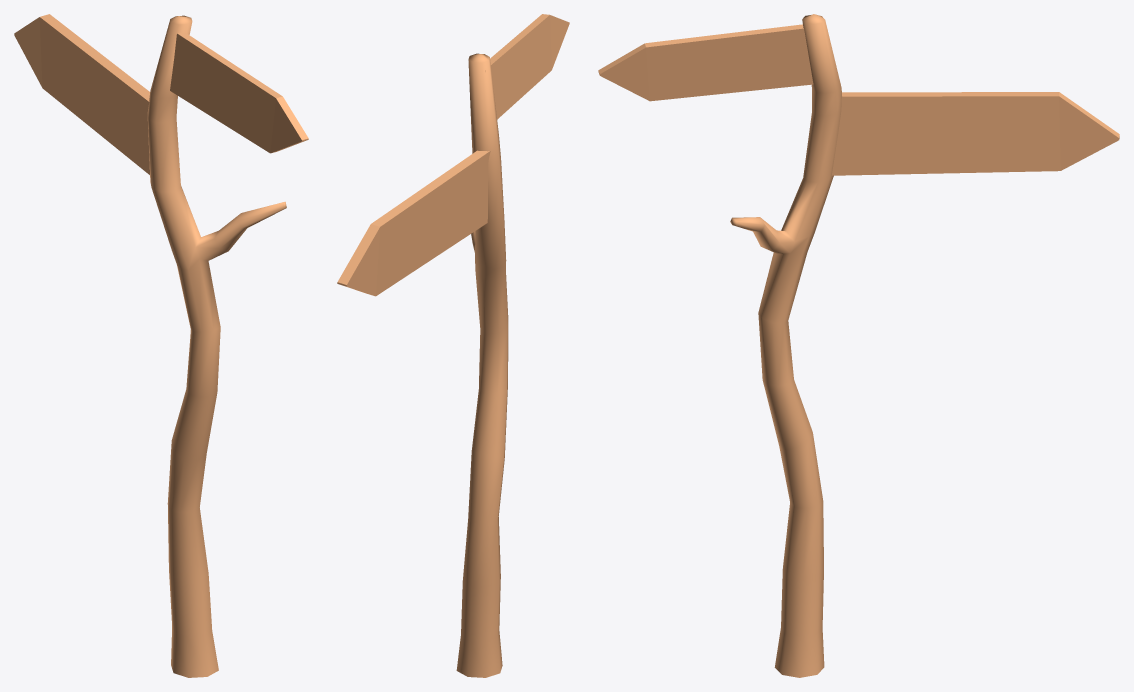
The model's file is NewSignboard.fbx.
3 renders of one model, left to right at view 1: azimuth 30°, elevation 25°; view 2: azimuth 150°, elevation 25°; view 3: azimuth 270°, elevation 25°, orthographic. The views are drawn at different scales.
Parts seen in each view (by area): view 1: Cylinder.001, Cube.001, Cube.002; view 2: Cylinder.001, Cube.001, Cube.002; view 3: Cylinder.001, Cube.001, Cube.002.
Boxes of the visible parts, x1,y1,x2,y2 form: Cylinder.001: [147, 15, 286, 677]; Cube.001: [14, 14, 149, 174]; Cube.002: [168, 27, 308, 153]; Cylinder.001: [456, 53, 508, 677]; Cube.001: [337, 150, 490, 296]; Cube.002: [485, 14, 569, 119]; Cylinder.001: [730, 14, 841, 677]; Cube.001: [832, 92, 1119, 175]; Cube.002: [598, 24, 813, 101].
Bounding box in the file's own units: 0.8367 × 4.02 × 5.52.
